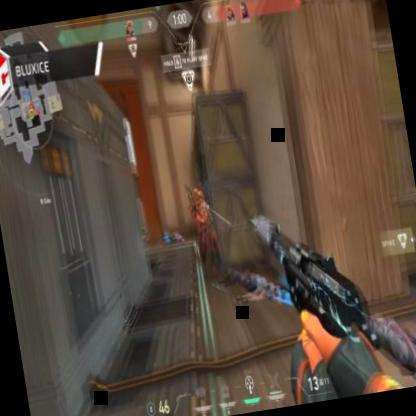enemy: (190, 190, 224, 280)
enemy_head: (196, 191, 204, 203)
